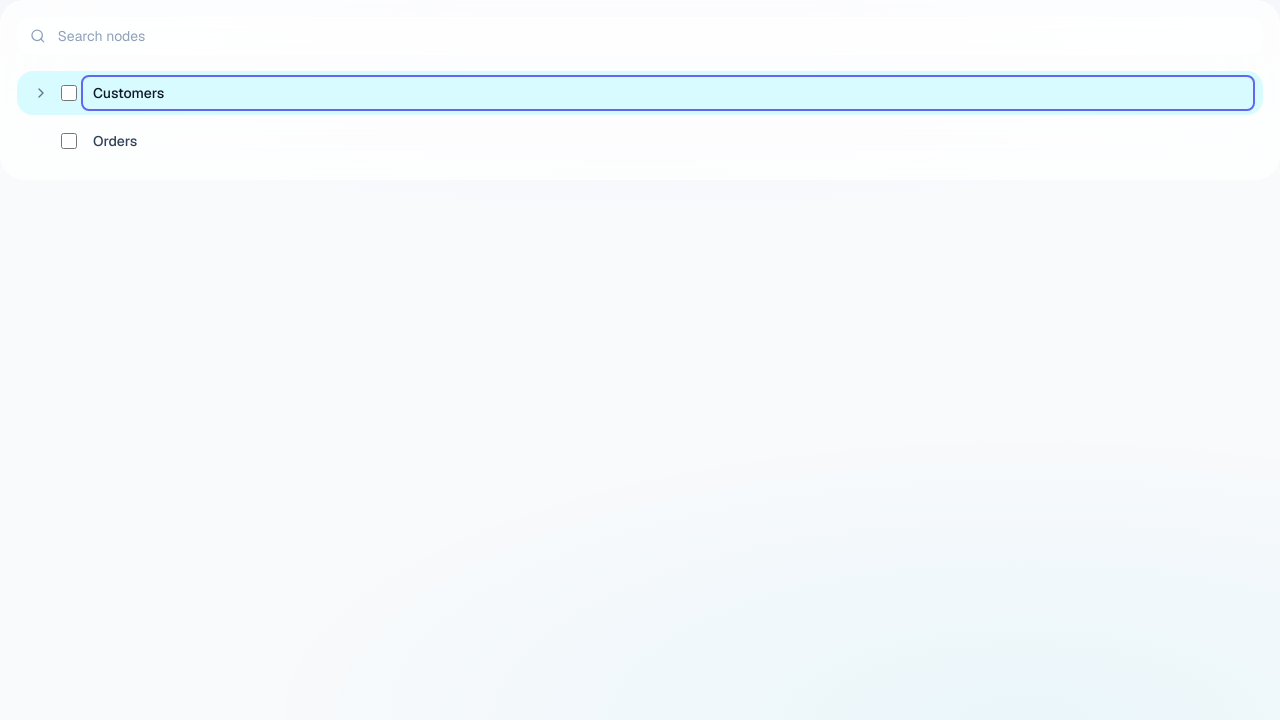
Scenario: TreeView › expands and collapses parent nodes from the toggle button
Step 1. Click the button named "Expand Customers" → (41, 93), box top-left (29, 81), bottom-right (53, 105)
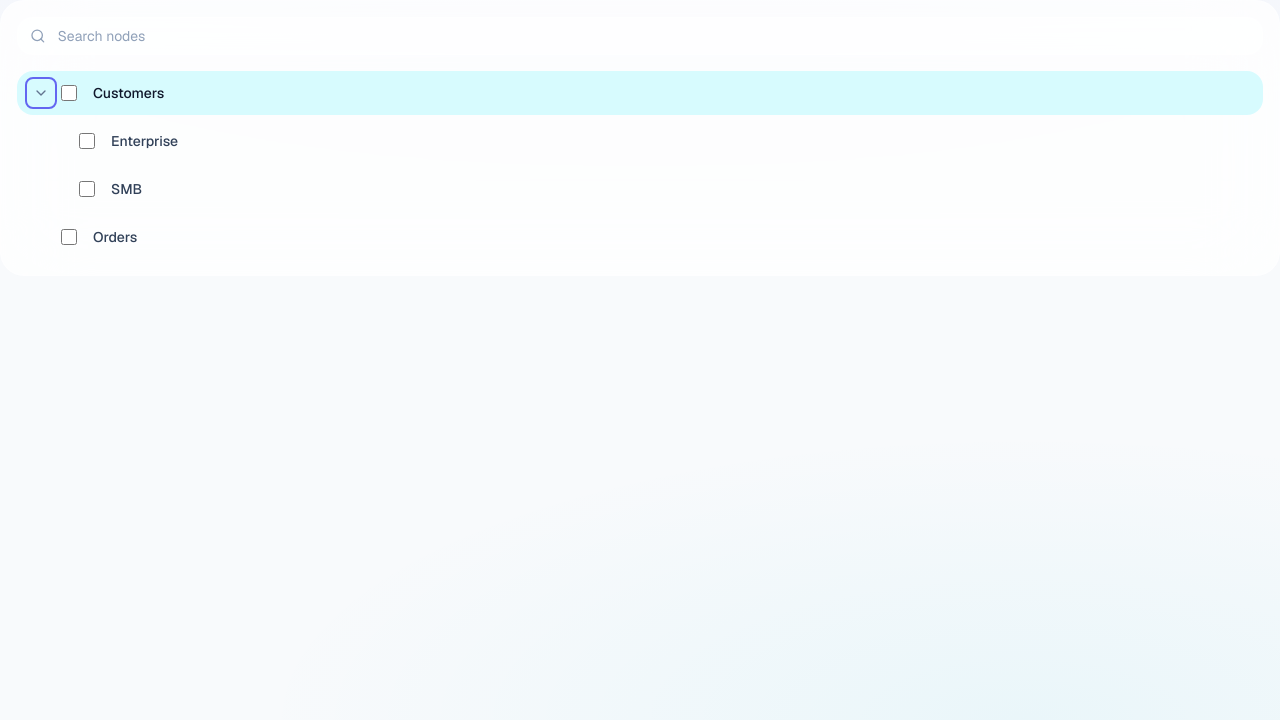
Result: the list item "Enterprise" is shown at top-left (103, 127), bottom-right (1251, 155)
Result: the list item "SMB" is shown at top-left (103, 175), bottom-right (1251, 203)
Step 2. Click the button named "Collapse Customers" → (41, 93), box top-left (29, 81), bottom-right (53, 105)
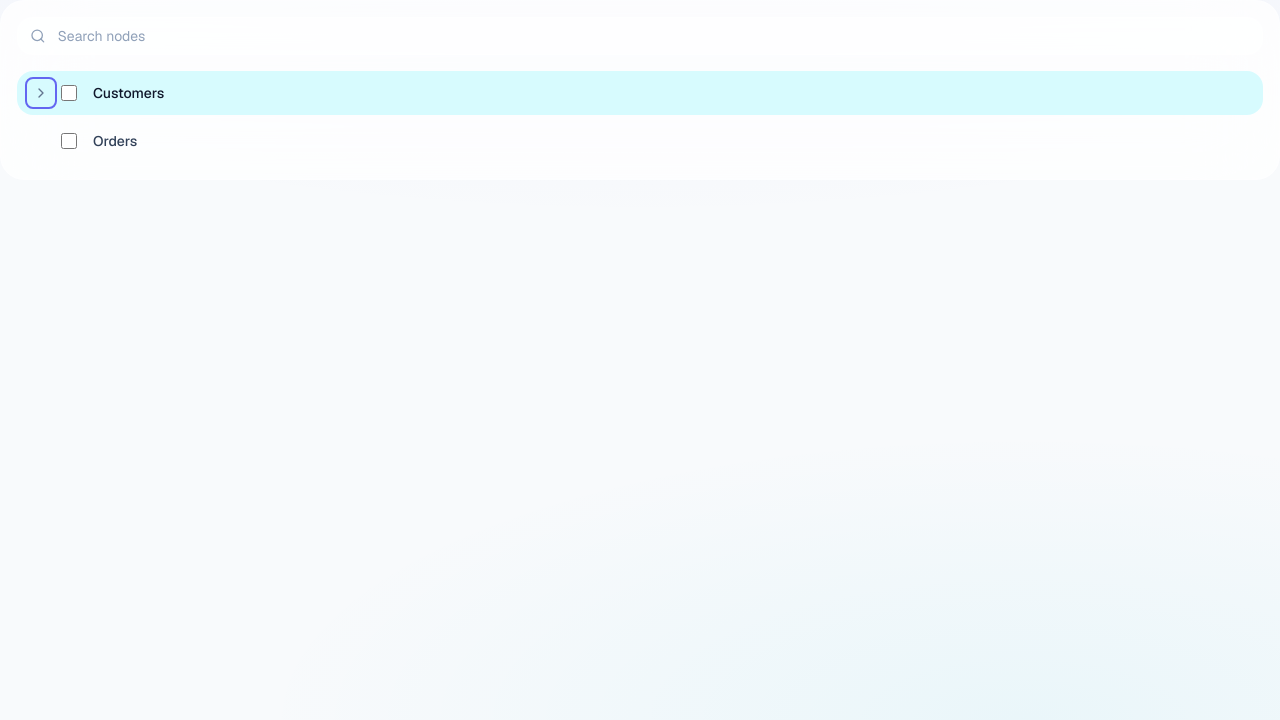
Result: the list item "Enterprise" is gone
